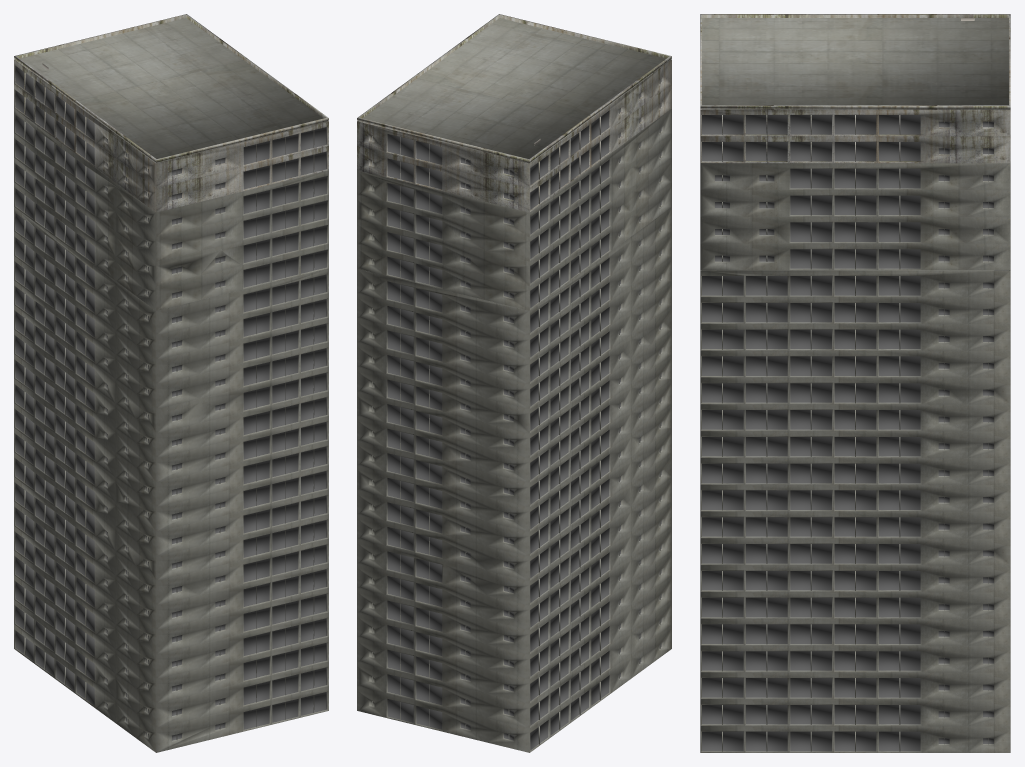
File: medium office building.glb
The picture shows the model from 3 angles, left to right: view 1: azimuth 30°, elevation 25°; view 2: azimuth 150°, elevation 25°; view 3: azimuth 270°, elevation 25°; orthographic projection. The views are drawn at different scales.
Visible parts, largest first — view 1: Office Building Medium; view 2: Office Building Medium; view 3: Office Building Medium.
Part boxes in pixels (x1,y1,x2,y2): Office Building Medium: [14, 14, 328, 752]; Office Building Medium: [357, 14, 671, 752]; Office Building Medium: [700, 14, 1010, 752].
Bounding box in the file's own units: 17.62 × 58.03 × 25.13.
4 materials, 3 textured.
